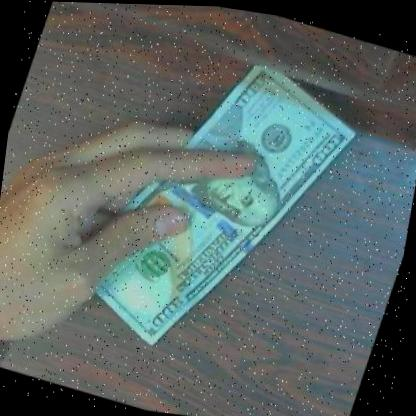dollar_front: (16, 3, 378, 398)
